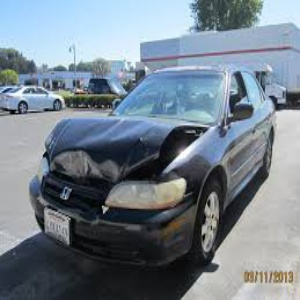bonnet: (46, 117, 177, 174)
bumper_scratch: (76, 215, 193, 268)
